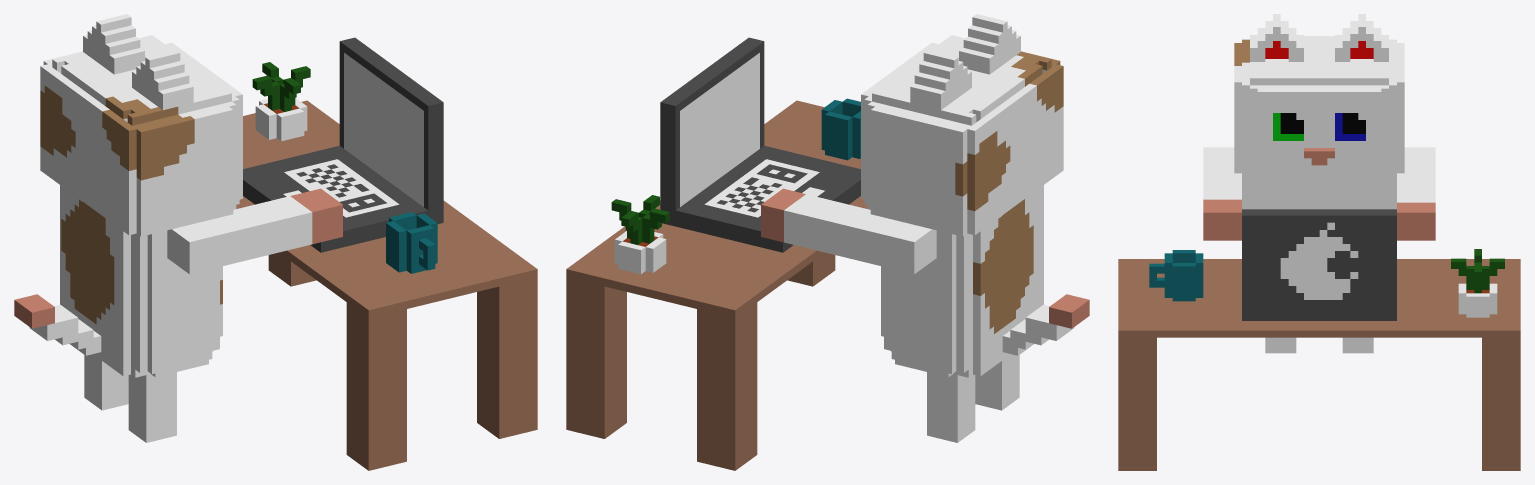
Rendered from cat.glb.
3 views of the same model, side by side, from view 1: azimuth 30°, elevation 25°; view 2: azimuth 150°, elevation 25°; view 3: azimuth 270°, elevation 25° (orthographic). The views are drawn at different scales.
Visible parts, largest first — view 1: Node; view 2: Node; view 3: Node.
Boxes of the visible parts, x1=… form: Node: x1=14, y1=14, x2=537, y2=470; Node: x1=566, y1=14, x2=1089, y2=470; Node: x1=1118, y1=14, x2=1520, y2=470.
Size of the model in its own units: 5.2 by 4.7 by 5.2.
Materials: 1 (1 with a texture image).
